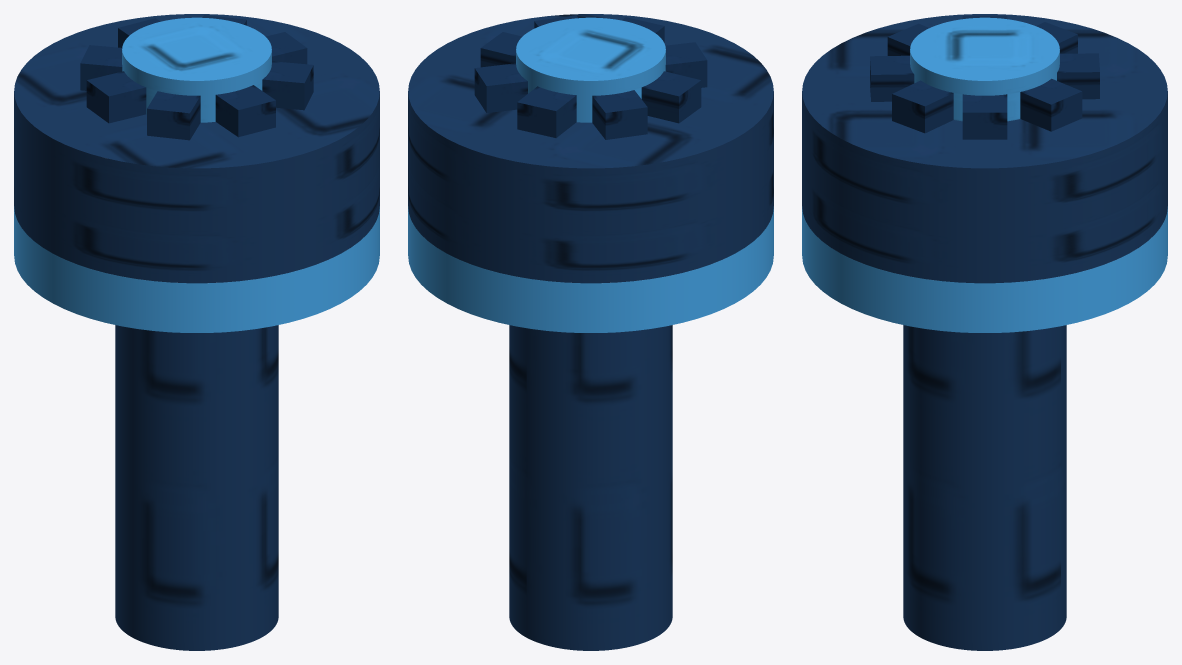
The model's file is basic_sprinkler_grow_a_garden_remake.glb.
3 views of the same model, side by side, from view 1: azimuth 30°, elevation 25°; view 2: azimuth 150°, elevation 25°; view 3: azimuth 270°, elevation 25° (orthographic).
Parts seen in each view (by area): view 1: Object_6, Object_4, Object_5, Object_3, Object_2; view 2: Object_6, Object_4, Object_5, Object_3, Object_2; view 3: Object_6, Object_4, Object_5, Object_3, Object_2.
Boxes of the visible parts, x1,y1,x2,y2 form: Object_6: (14, 14, 379, 283); Object_4: (115, 325, 278, 650); Object_5: (14, 206, 379, 332); Object_3: (80, 15, 313, 140); Object_2: (122, 17, 271, 122); Object_6: (408, 14, 773, 283); Object_4: (509, 325, 672, 650); Object_5: (408, 206, 773, 332); Object_3: (474, 15, 707, 139); Object_2: (516, 17, 665, 122); Object_6: (802, 14, 1167, 283); Object_4: (903, 325, 1066, 650); Object_5: (802, 206, 1167, 332); Object_3: (870, 15, 1099, 139); Object_2: (910, 17, 1059, 121).
Size of the model in its own units: 0.7247 by 1.24 by 0.7255.
Materials: 5 (5 with a texture image).
